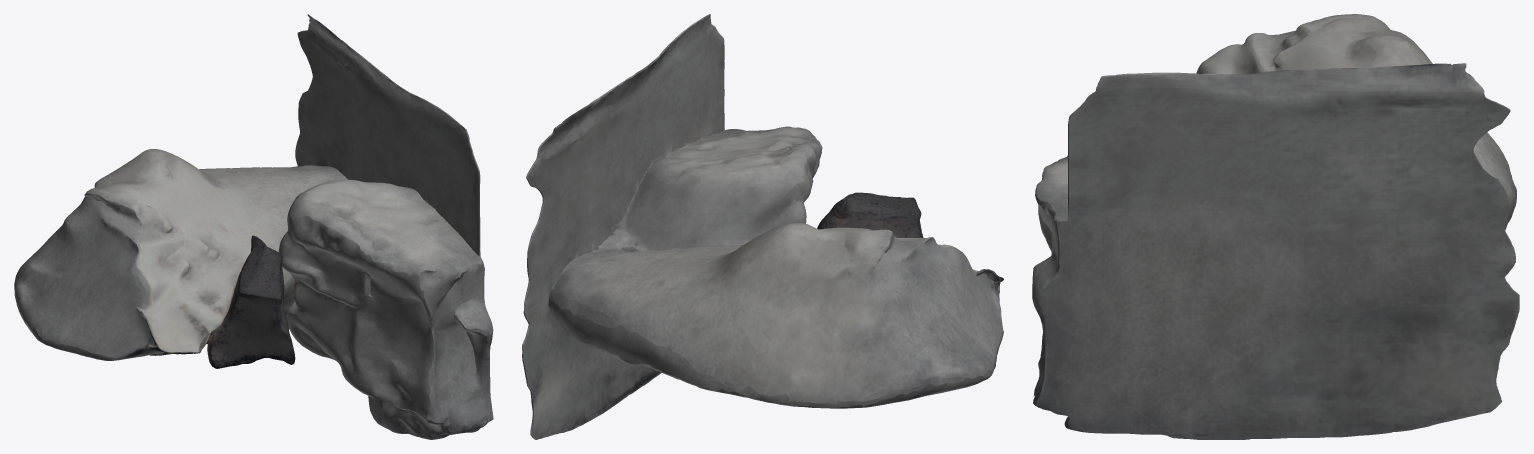
3 views of the same model, side by side, from view 1: azimuth 30°, elevation 25°; view 2: azimuth 150°, elevation 25°; view 3: azimuth 270°, elevation 25° (orthographic). The views are drawn at different scales.
Parts seen in each view (by area): view 1: world; view 2: world; view 3: world.
Boxes of the visible parts, x1,y1,x2,y2 form: world: [14, 14, 493, 439]; world: [522, 14, 1003, 439]; world: [1032, 14, 1519, 439].
Size of the model in its own units: 1.2 by 1.01 by 1.21.
Materials: 1 (1 with a texture image).
